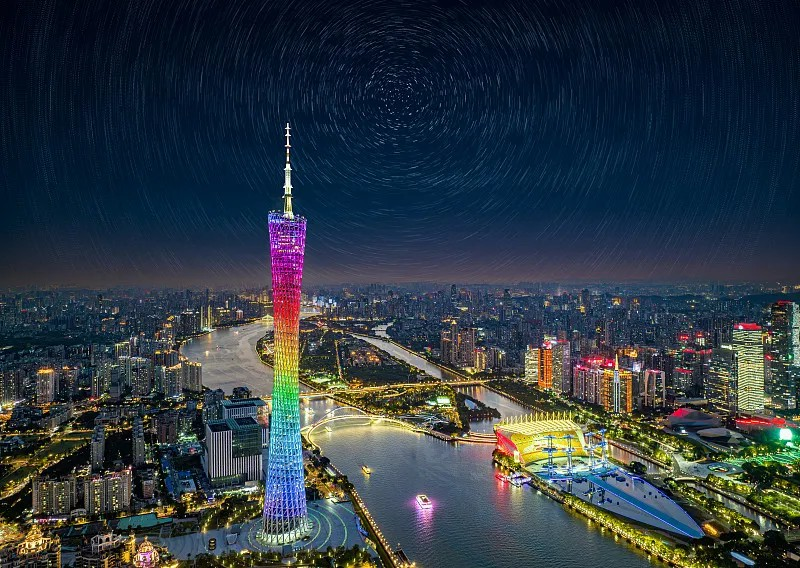Canton: (258, 123, 313, 542)
